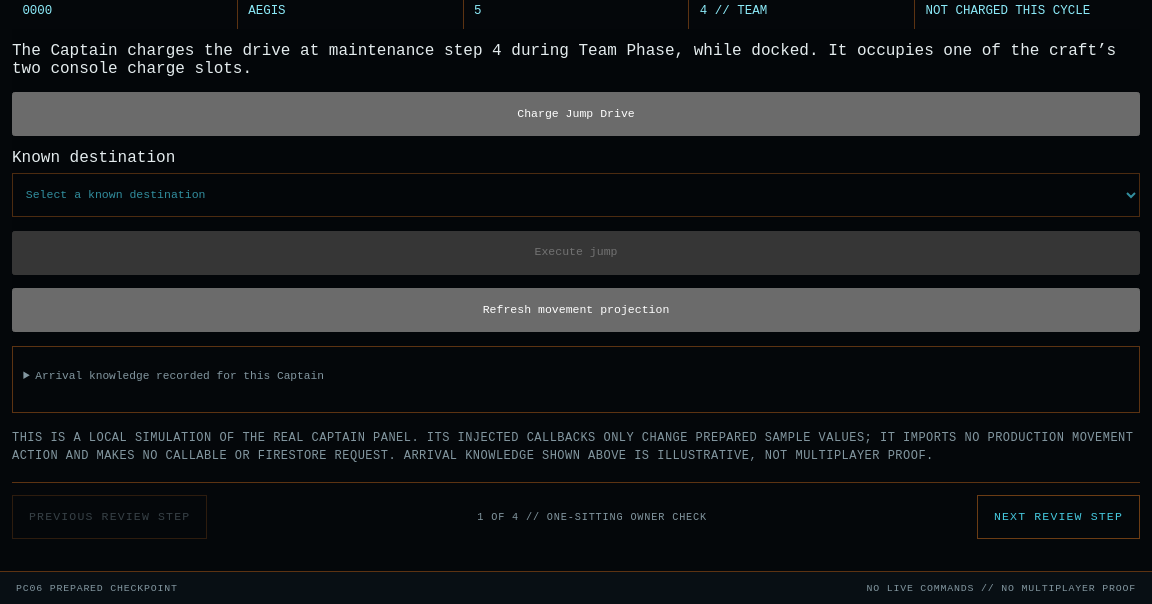
supports accessible forward and back navigation through the review steps
The image size is (1152, 604).
(page scrolled)
Click the button "Next review step": [1058, 517] box left=977, top=495, right=1140, bottom=539
(page scrolled)
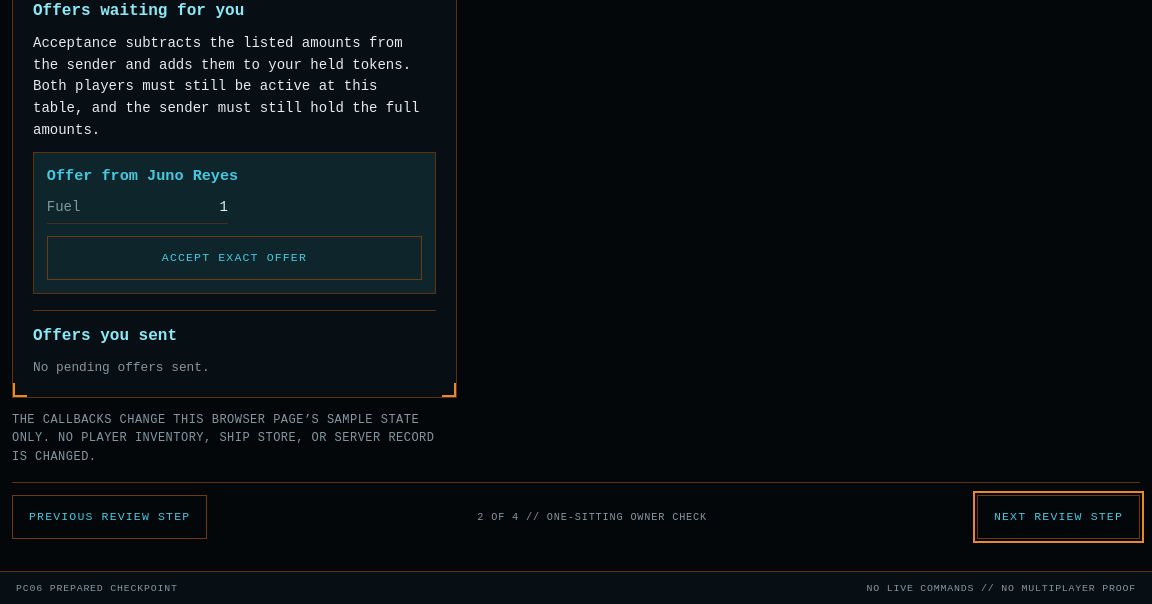
Click the button "Previous review step": [110, 517] box left=12, top=495, right=207, bottom=539
(page scrolled)
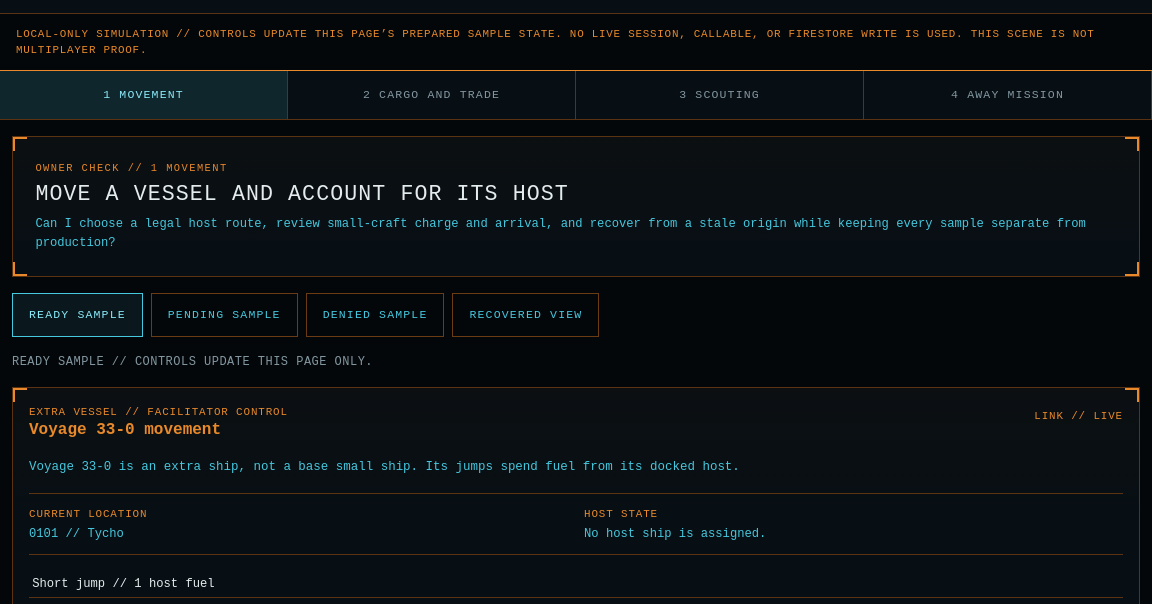
Expected: the heading "Move a vessel and account for its host" is shown, left=35, top=182, right=569, bottom=206
